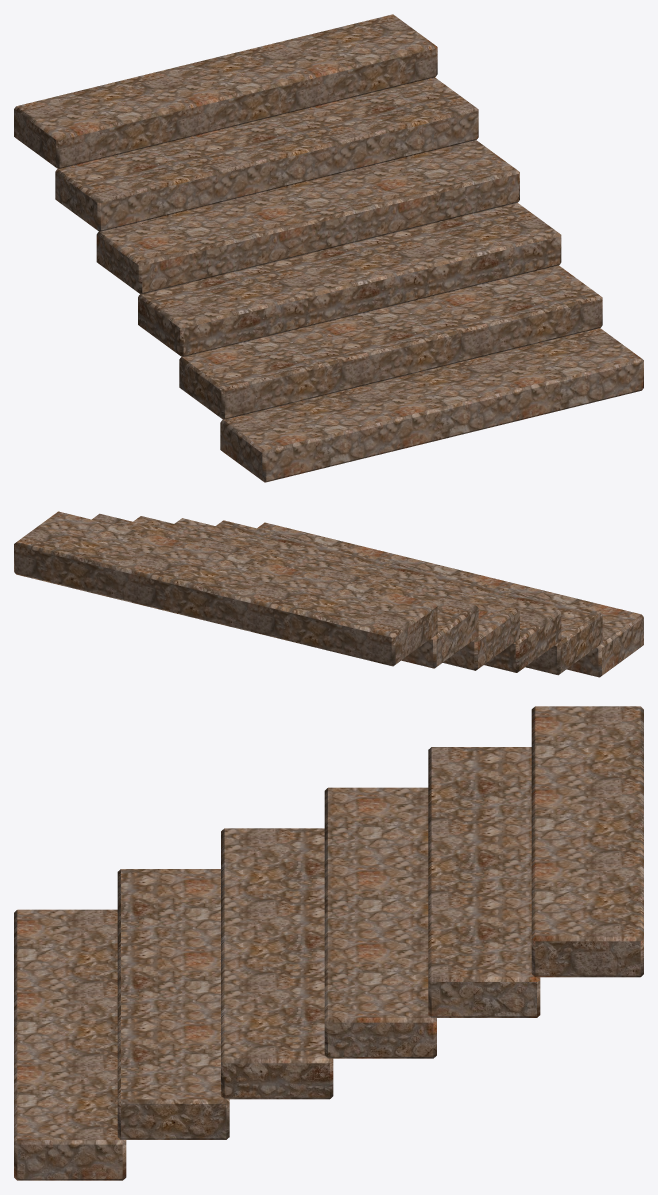
File: prop_stair_block.glb
The picture shows the model from 3 angles, top to bottom: view 1: azimuth 30°, elevation 25°; view 2: azimuth 150°, elevation 25°; view 3: azimuth 270°, elevation 25°; orthographic projection. The views are drawn at different scales.
Visible parts, largest first — view 1: PROP_StoneStairs; view 2: PROP_StoneStairs; view 3: PROP_StoneStairs.
Boxes of the visible parts, <box> form: PROP_StoneStairs: <box>14,14,643,482</box>; PROP_StoneStairs: <box>14,511,643,677</box>; PROP_StoneStairs: <box>14,706,643,1180</box>.
Size of the model in its own units: 3.2 by 1.56 by 3.65.
Materials: 1 (1 with a texture image).
